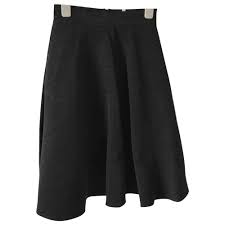S_skirt: (27, 11, 188, 225)
